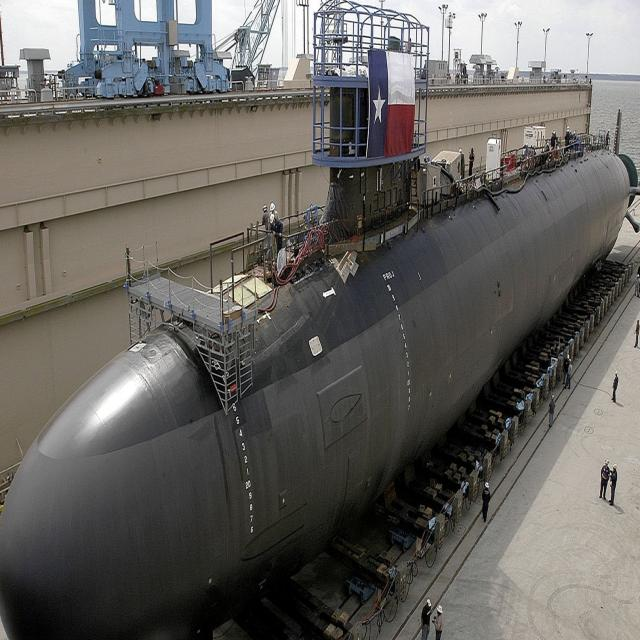submarine: (1, 3, 640, 640)
